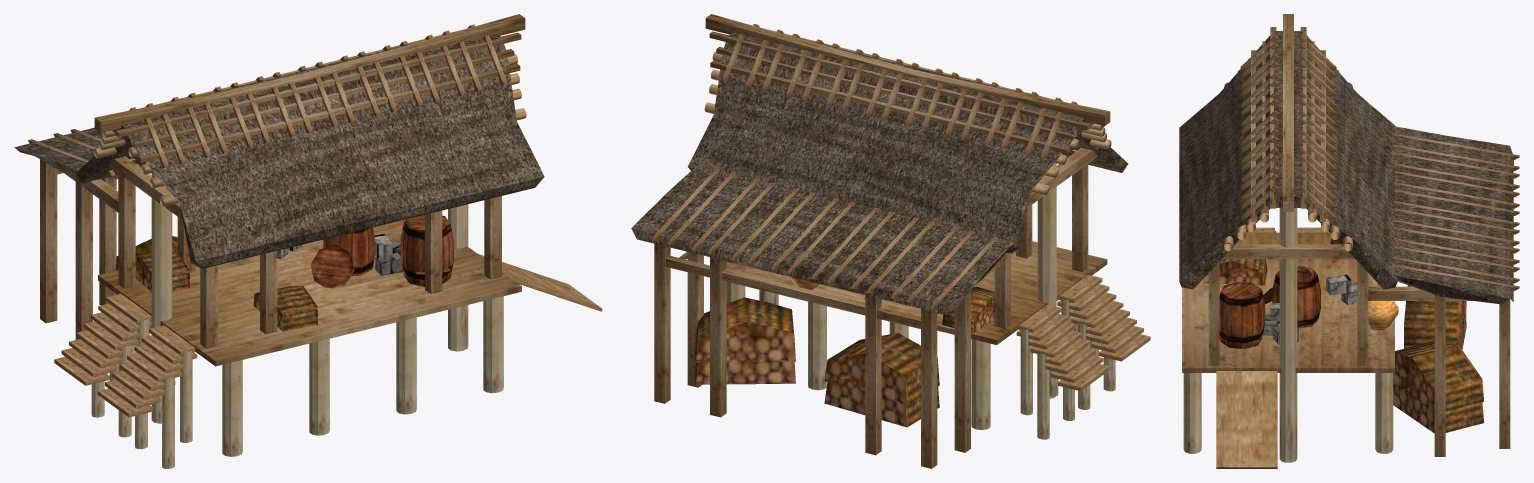
The model's file is yayoi_storehouse.dae.
3 renders of one model, left to right at view 1: azimuth 30°, elevation 25°; view 2: azimuth 150°, elevation 25°; view 3: azimuth 270°, elevation 25°, orthographic. The views are drawn at different scales.
Visible parts, largest first — view 1: storehouse; view 2: storehouse; view 3: storehouse.
Part boxes in pixels (bbox=[...]): storehouse: bbox=[14, 14, 602, 468]; storehouse: bbox=[631, 14, 1150, 468]; storehouse: bbox=[1179, 14, 1519, 468].
Bounding box in the file's own units: 19.23 × 13.24 × 12.77.
